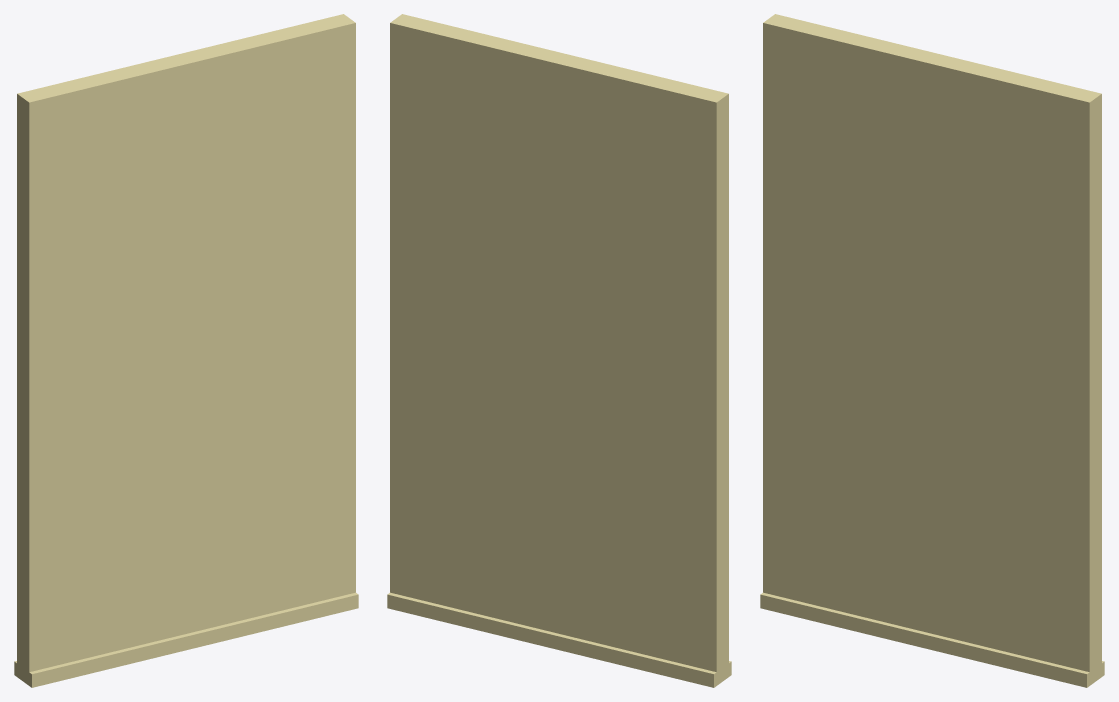
File: WallV3.fbx
The picture shows the model from 3 angles, left to right: view 1: azimuth 30°, elevation 25°; view 2: azimuth 150°, elevation 25°; view 3: azimuth 330°, elevation 25°; orthographic projection.
Visible parts, largest first — view 1: pCube84; view 2: pCube84; view 3: pCube84.
Boxes of the visible parts, box(x1,y1,x2,y2) form: pCube84: box(14, 14, 358, 687); pCube84: box(387, 14, 731, 687); pCube84: box(760, 14, 1104, 687).
Bounding box in the file's own units: 313 × 533 × 29.06.
